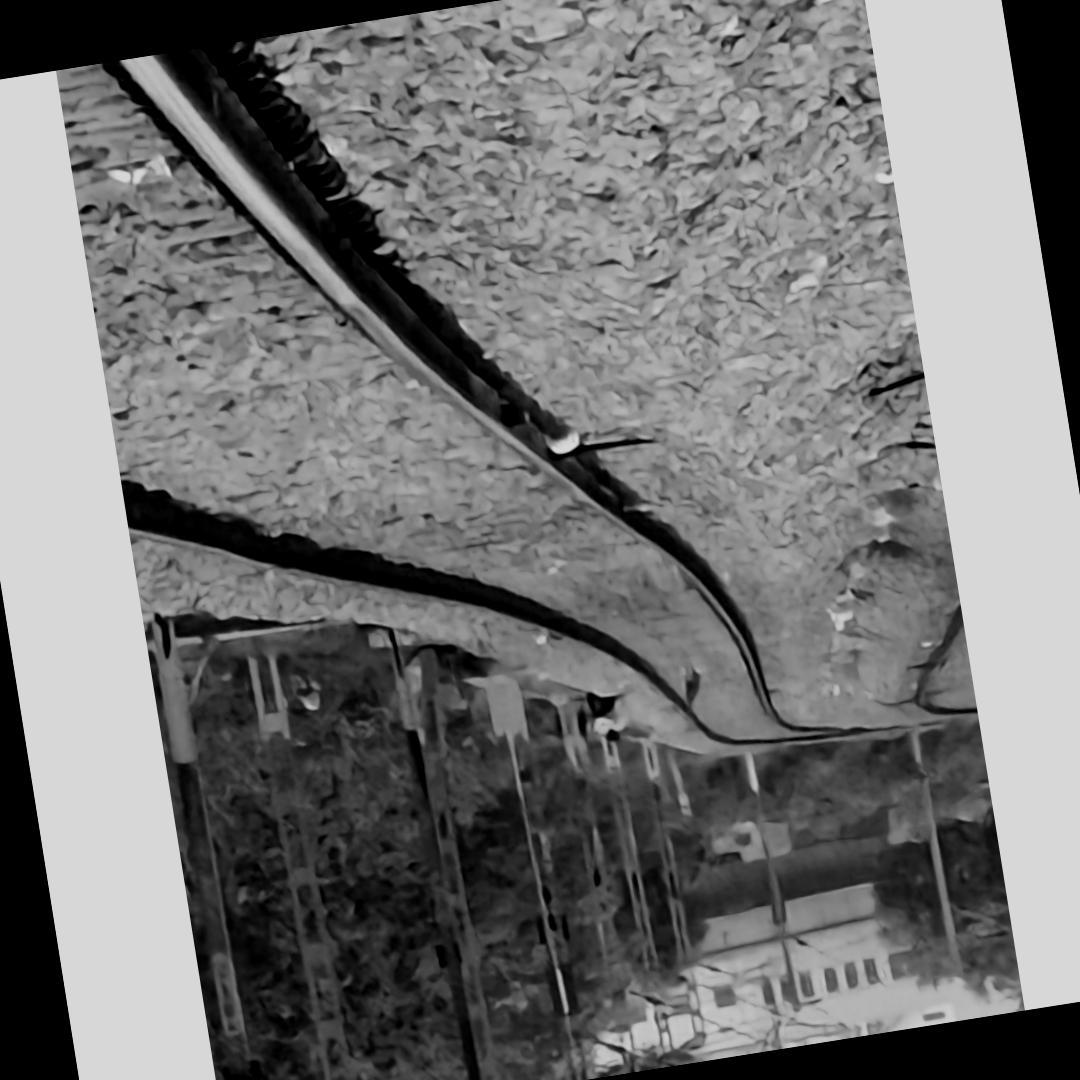track: (56, 42, 884, 746)
